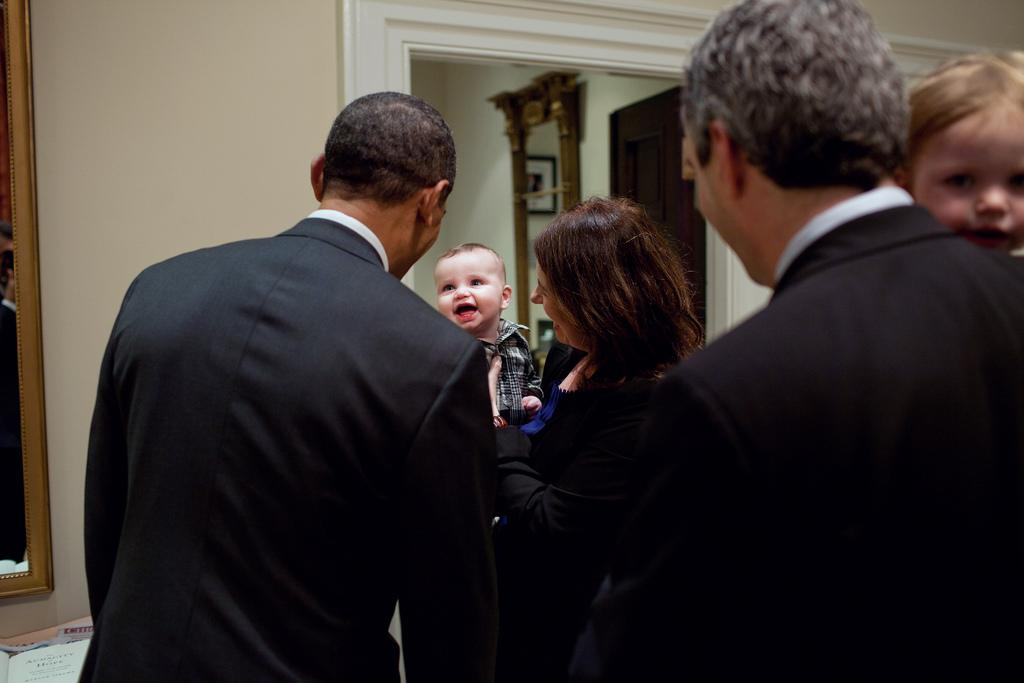face: (916, 100, 1022, 260), (530, 254, 590, 346), (434, 252, 504, 330)
